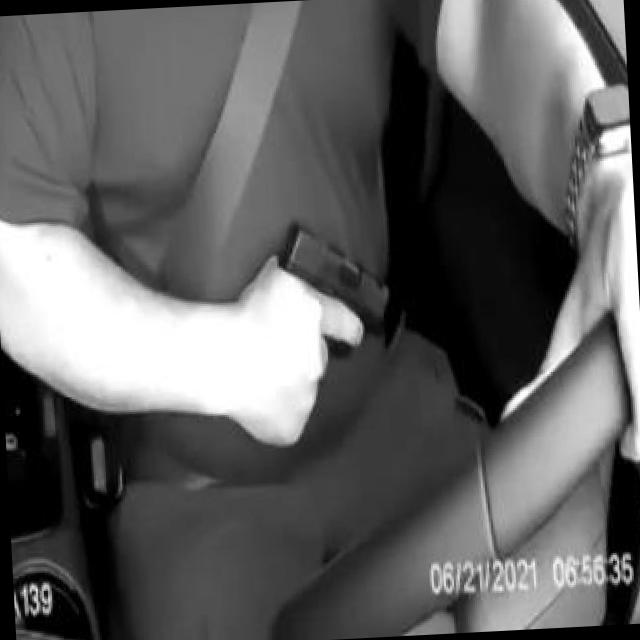Guns: (268, 206, 417, 364)
